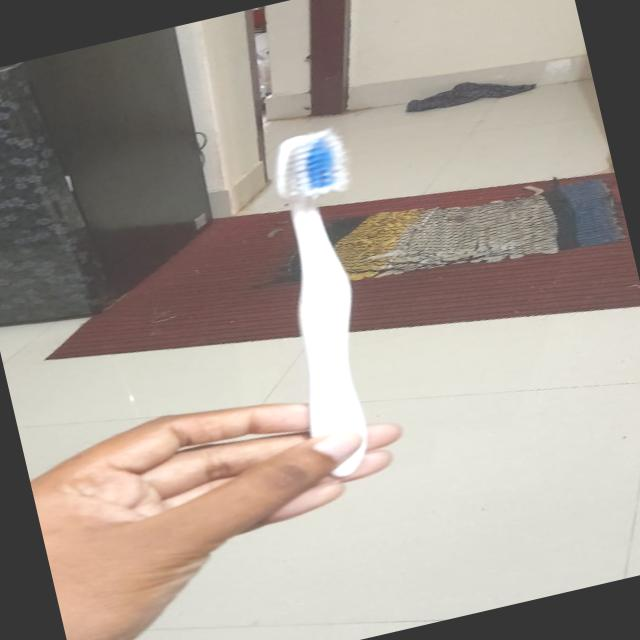Tooth_Brush - Non Recyclable: (184, 100, 452, 522)
